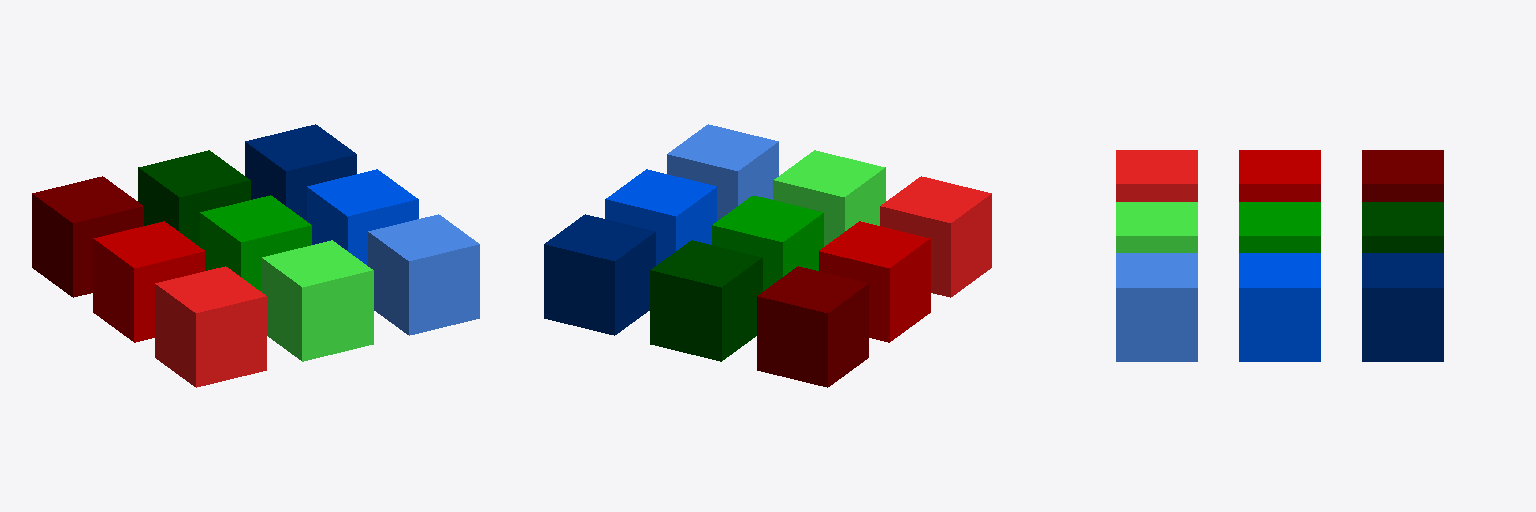
3 views of the same model, side by side, from view 1: azimuth 30°, elevation 25°; view 2: azimuth 150°, elevation 25°; view 3: azimuth 270°, elevation 25° (orthographic).
Visible parts, largest first — view 1: multicube; view 2: multicube; view 3: multicube.
Part boxes in pixels (bbox=[...]): multicube: bbox=[32, 124, 479, 387]; multicube: bbox=[544, 124, 991, 387]; multicube: bbox=[1116, 150, 1443, 361].
Size of the model in its own units: 8 by 2 by 8.
1 materials, 1 textured.